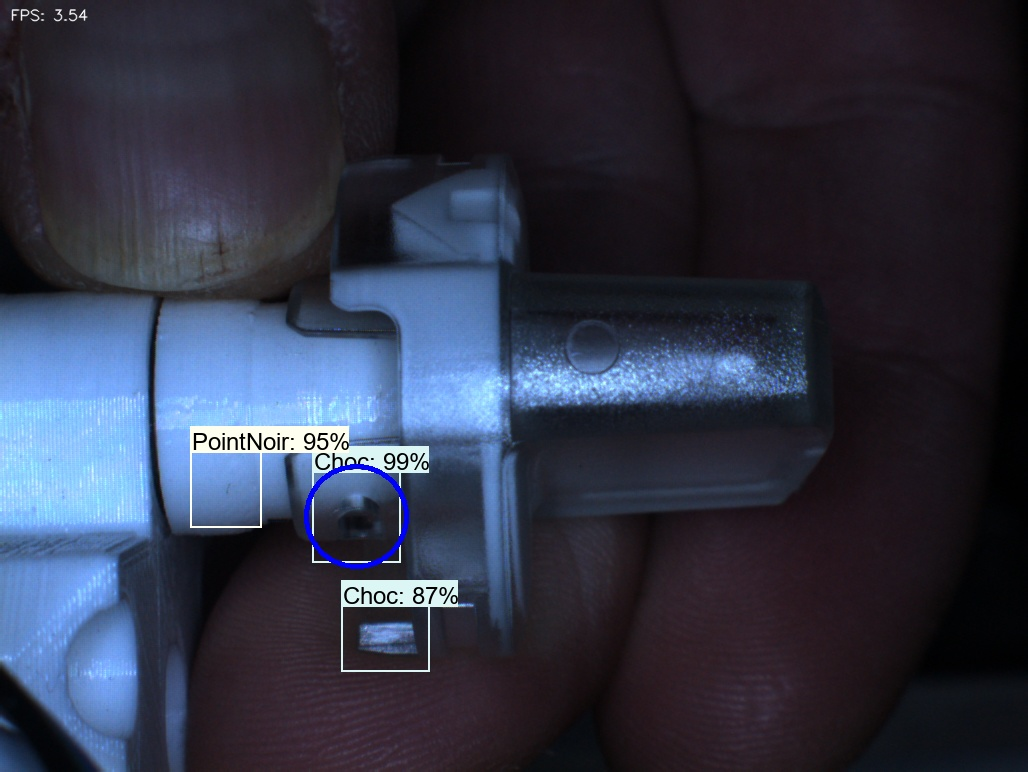DentOk: (361, 181, 439, 272)
